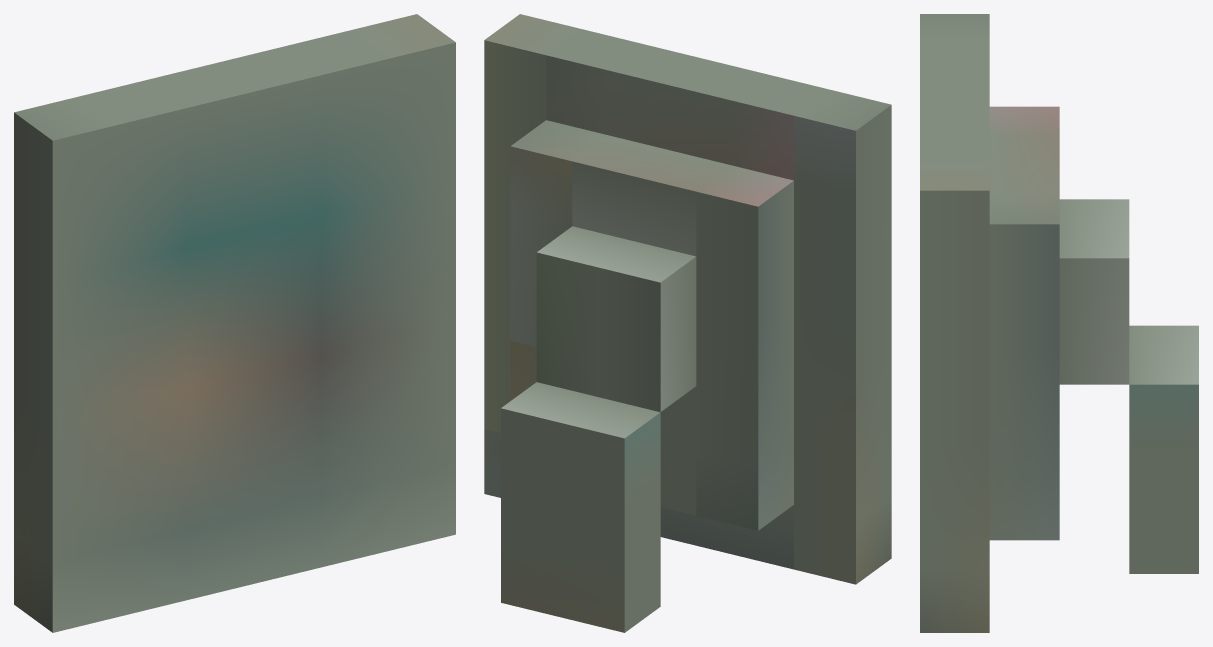
The model's file is PaintingFramedSmall_A_00.fbx.
The picture shows the model from 3 angles, left to right: view 1: azimuth 30°, elevation 25°; view 2: azimuth 150°, elevation 25°; view 3: azimuth 270°, elevation 25°; orthographic projection. The views are drawn at different scales.
Parts seen in each view (by area): view 1: PaintingFramedSmall_A_00; view 2: PaintingFramedSmall_A_00; view 3: PaintingFramedSmall_A_00.
Part boxes in pixels (x1,y1,x2,y2): PaintingFramedSmall_A_00: (14, 14, 455, 632); PaintingFramedSmall_A_00: (484, 14, 891, 632); PaintingFramedSmall_A_00: (920, 14, 1198, 632).
Bounding box in the file's own units: 30 × 20 × 35.
Materials: 1 (1 with a texture image).
